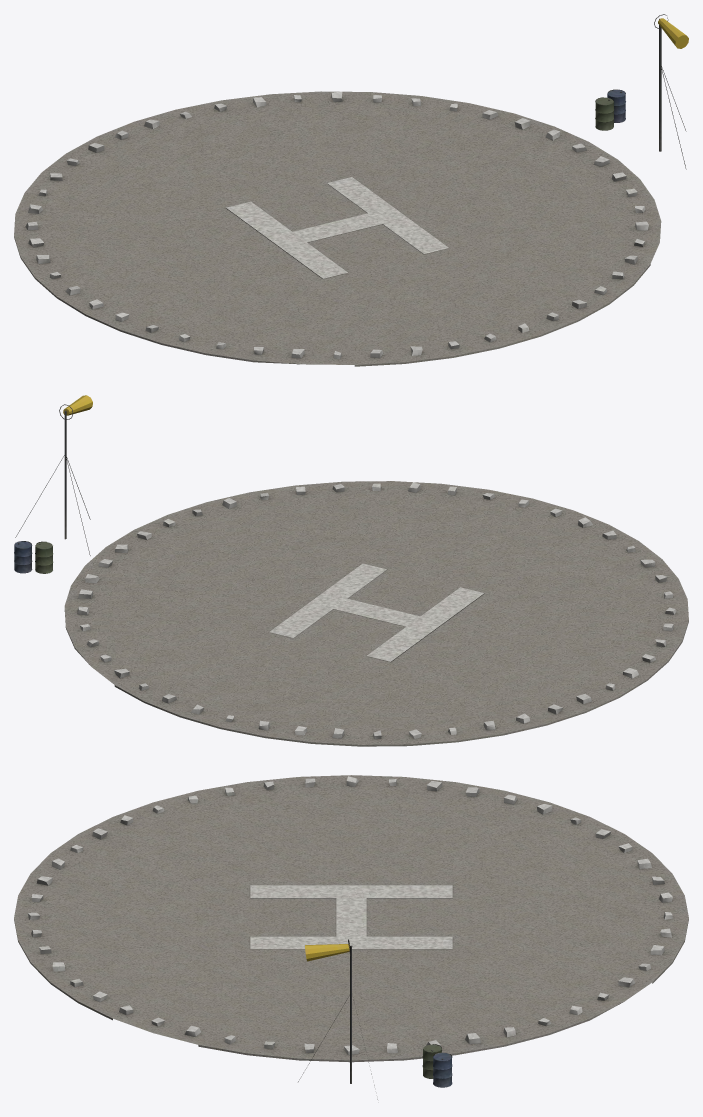
File: helipad.glb
3 renders of one model, top to bottom at view 1: azimuth 30°, elevation 25°; view 2: azimuth 150°, elevation 25°; view 3: azimuth 270°, elevation 25°, orthographic. The views are drawn at different scales.
Parts seen in each view (by area): view 1: pad; view 2: pad; view 3: pad.
Part boxes in pixels (<box>): pad: <box>14,14,688,366</box>; pad: <box>14,395,688,746</box>; pad: <box>14,775,688,1099</box>.
Size of the model in its own units: 22.89 by 4.69 by 20.
1 material, 1 textured.
